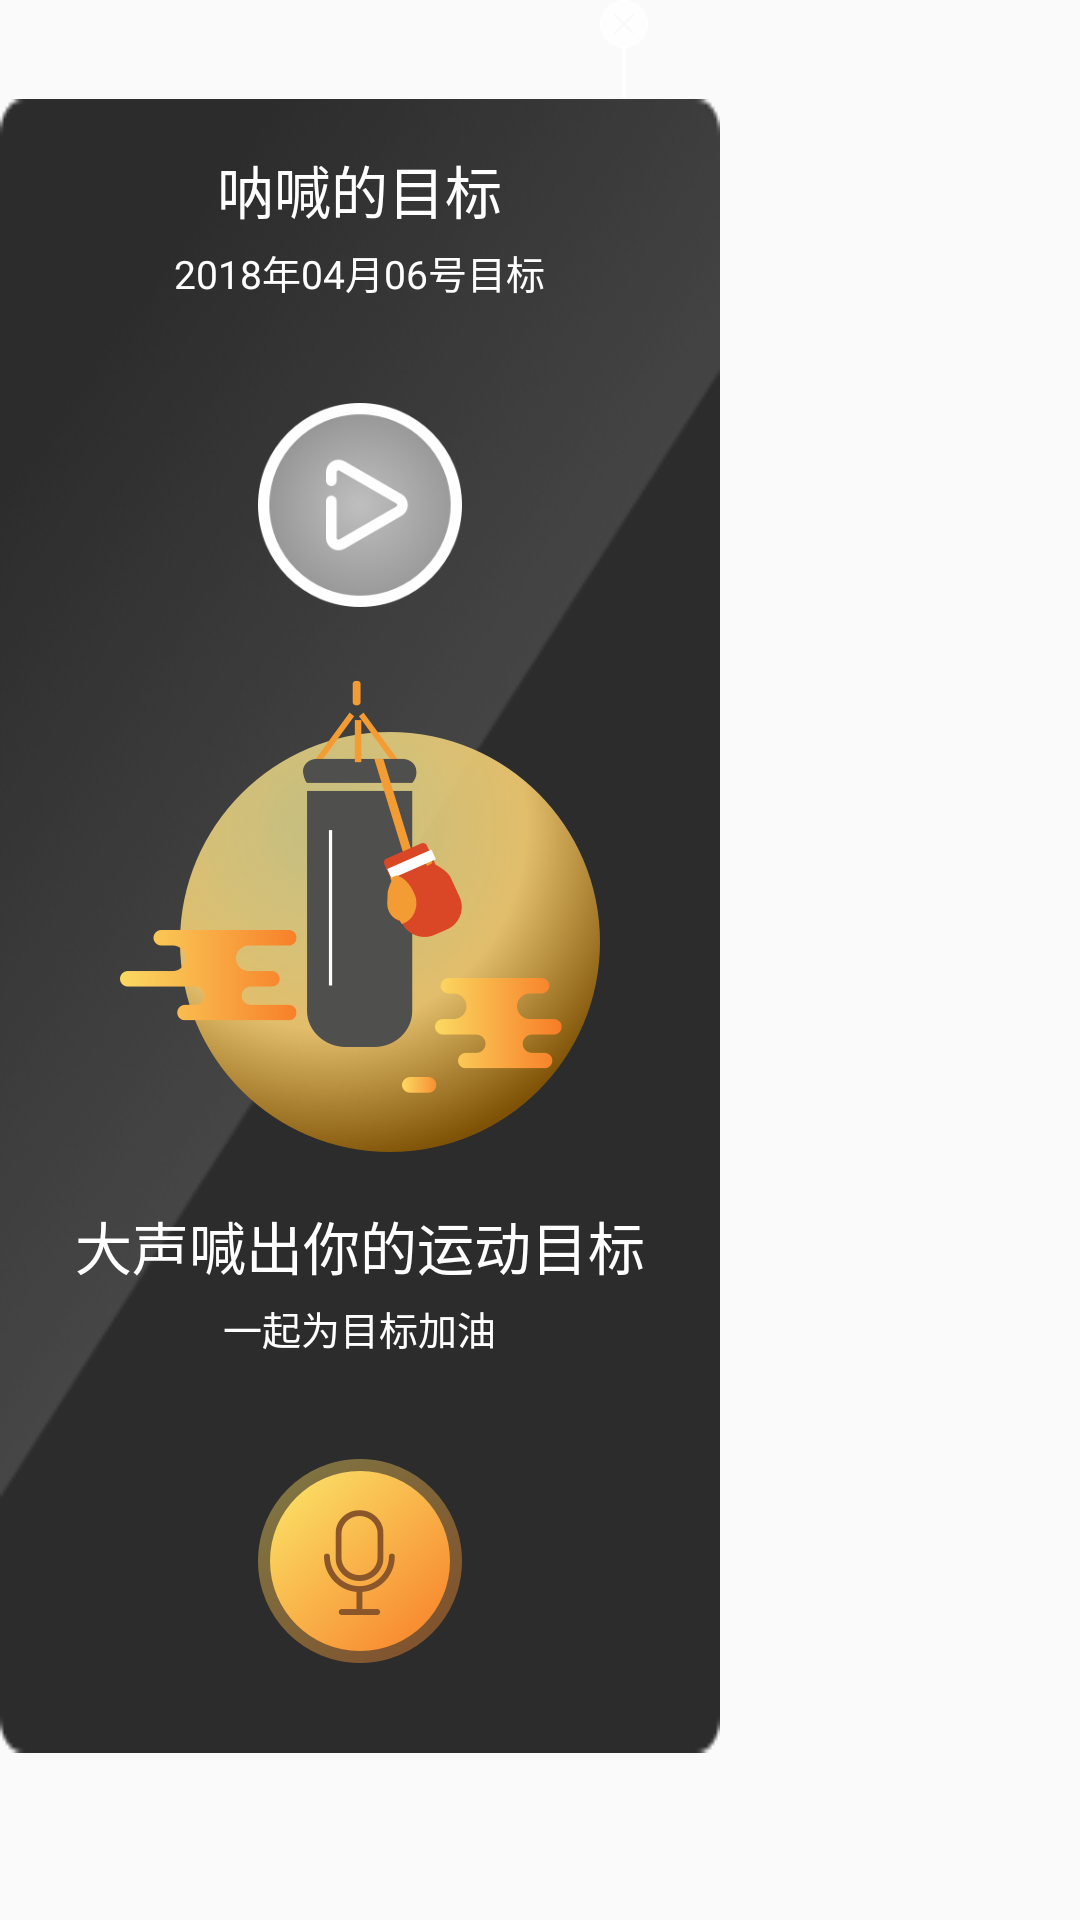

Icons on this 1080px×1920px Android screen, each with its box as (x1, y1, x2, y2):
bofang: (258, 403, 462, 607)
